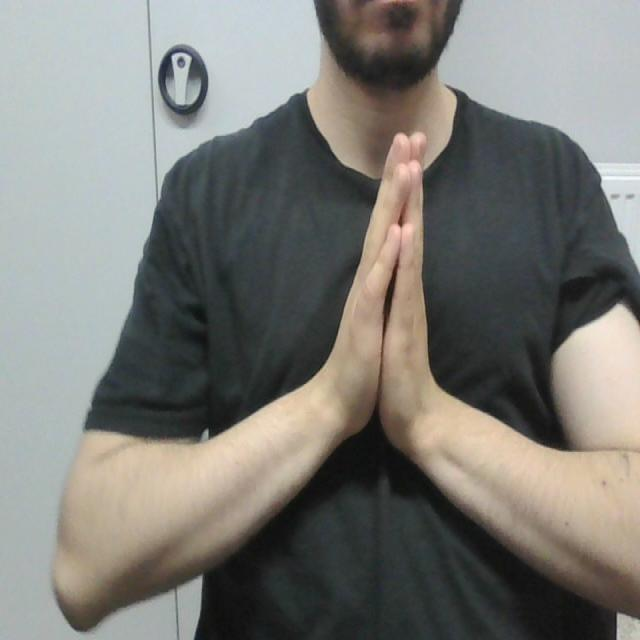Ozur-Dilemek: (332, 116, 442, 472)
